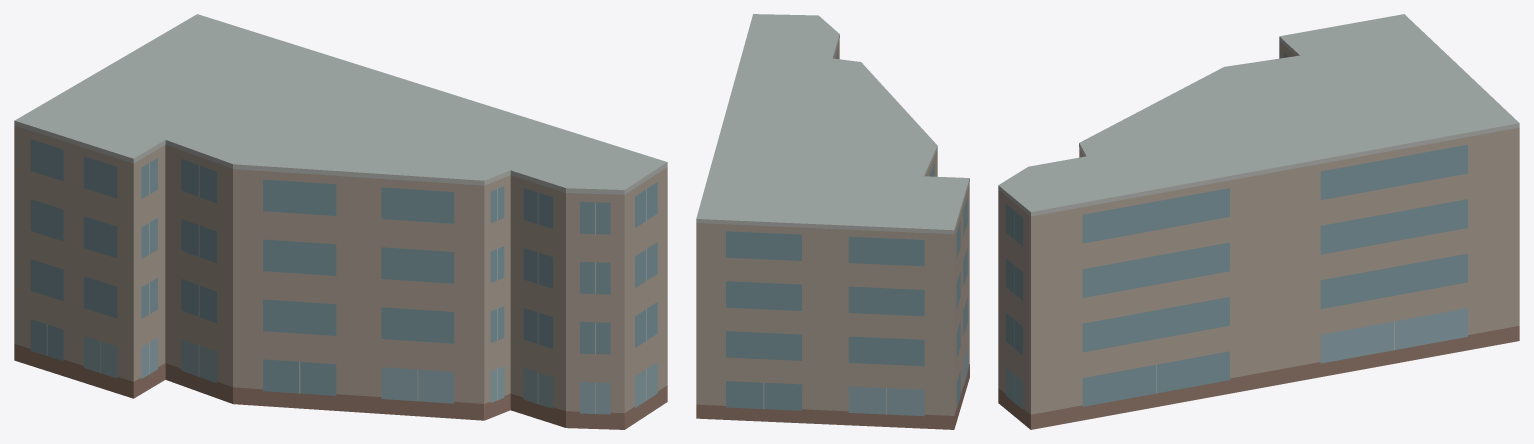
Rendered from survey-upis-32602305.glb.
3 renders of one model, left to right at view 1: azimuth 30°, elevation 25°; view 2: azimuth 150°, elevation 25°; view 3: azimuth 270°, elevation 25°, orthographic. The views are drawn at different scales.
Visible parts, largest first — view 1: survey-upis-32602305.tmp; view 2: survey-upis-32602305.tmp; view 3: survey-upis-32602305.tmp.
Boxes of the visible parts, <box> form: survey-upis-32602305.tmp: <box>14,14,667,429</box>; survey-upis-32602305.tmp: <box>696,14,969,429</box>; survey-upis-32602305.tmp: <box>998,14,1519,429</box>.
Size of the model in its own units: 23.62 by 12.1 by 26.27.
